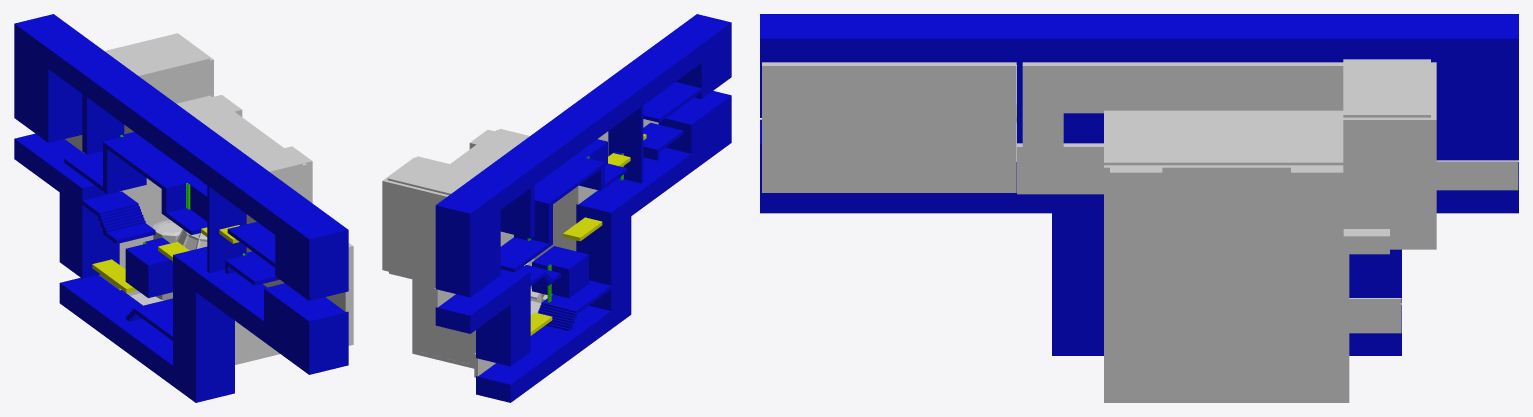
File: Level_3_scene9_colored_bg.fbx
3 views of the same model, side by side, from view 1: azimuth 30°, elevation 25°; view 2: azimuth 150°, elevation 25°; view 3: azimuth 270°, elevation 25° (orthographic). The views are drawn at different scales.
Parts seen in each view (by area): view 1: Cube.048, Cube.120, Cube.167, Cube.166, Cube.160, Cube.114, Cube.101, Cube.049, Cube.163, Cube.099, Cube.097, Cube.168 (+8 smaller); view 2: Cube.048, Cube.120, Cube.163, Cube.166, Cube.160, Cube.049, Cube.101, Cube.167, Cube.099, Cube.118, Cube.097, Cube.159 (+6 smaller); view 3: Cube.048, Cube.166, Cube.168, Cube.159, Cube.167, Cube.163, Cube.222, Cube.160, Cube.224, Cube.162, Cube.014, Cube.161 (+2 smaller).
Boxes of the visible parts, x1=… form: Cube.048: x1=14, y1=14, x2=348, y2=402; Cube.120: x1=64, y1=94, x2=207, y2=234; Cube.167: x1=127, y1=95, x2=302, y2=174; Cube.166: x1=117, y1=97, x2=306, y2=360; Cube.160: x1=104, y1=33, x2=209, y2=78; Cube.114: x1=82, y1=191, x2=155, y2=243; Cube.101: x1=125, y1=239, x2=172, y2=298; Cube.049: x1=207, y1=185, x2=246, y2=272; Cube.163: x1=143, y1=33, x2=213, y2=103; Cube.099: x1=227, y1=222, x2=275, y2=267; Cube.097: x1=225, y1=253, x2=279, y2=285; Cube.168: x1=246, y1=214, x2=353, y2=345; Cube.048: x1=435, y1=14, x2=731, y2=402; Cube.120: x1=500, y1=155, x2=627, y2=272; Cube.163: x1=382, y1=157, x2=448, y2=282; Cube.166: x1=412, y1=130, x2=576, y2=364; Cube.160: x1=387, y1=156, x2=480, y2=194; Cube.049: x1=608, y1=106, x2=643, y2=183; Cube.101: x1=534, y1=246, x2=588, y2=298; Cube.167: x1=451, y1=128, x2=529, y2=171; Cube.099: x1=643, y1=82, x2=701, y2=122; Cube.118: x1=538, y1=293, x2=594, y2=330; Cube.097: x1=643, y1=122, x2=683, y2=160; Cube.159: x1=500, y1=131, x2=608, y2=246; Cube.048: x1=760, y1=14, x2=1518, y2=355; Cube.166: x1=1104, y1=165, x2=1349, y2=397; Cube.168: x1=762, y1=62, x2=1016, y2=192; Cube.159: x1=1017, y1=62, x2=1343, y2=194; Cube.167: x1=1104, y1=110, x2=1343, y2=165; Cube.163: x1=1343, y1=62, x2=1436, y2=249; Cube.222: x1=1291, y1=165, x2=1343, y2=262; Cube.160: x1=1343, y1=59, x2=1430, y2=117; Cube.224: x1=1110, y1=167, x2=1162, y2=262; Cube.162: x1=1436, y1=160, x2=1518, y2=190; Cube.014: x1=1349, y1=298, x2=1401, y2=333; Cube.161: x1=1104, y1=397, x2=1349, y2=402.
Bounding box in the file's own units: 3648 × 6000 × 13000.
